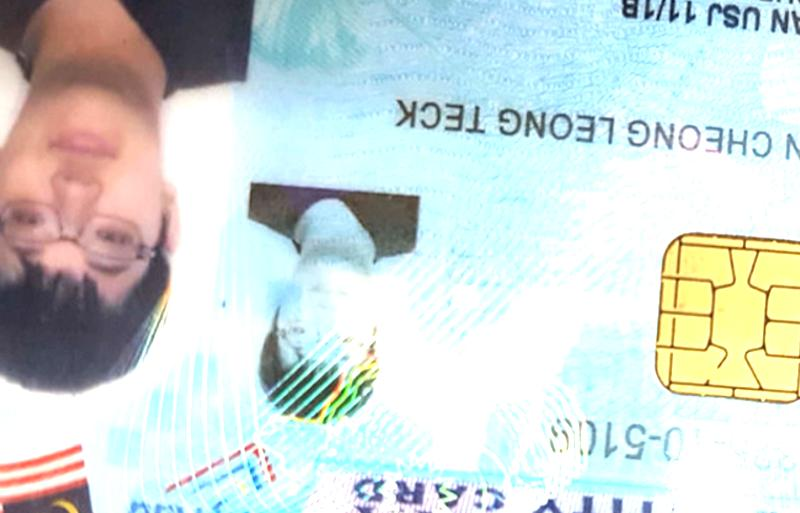hologram: (424, 186, 635, 345)
